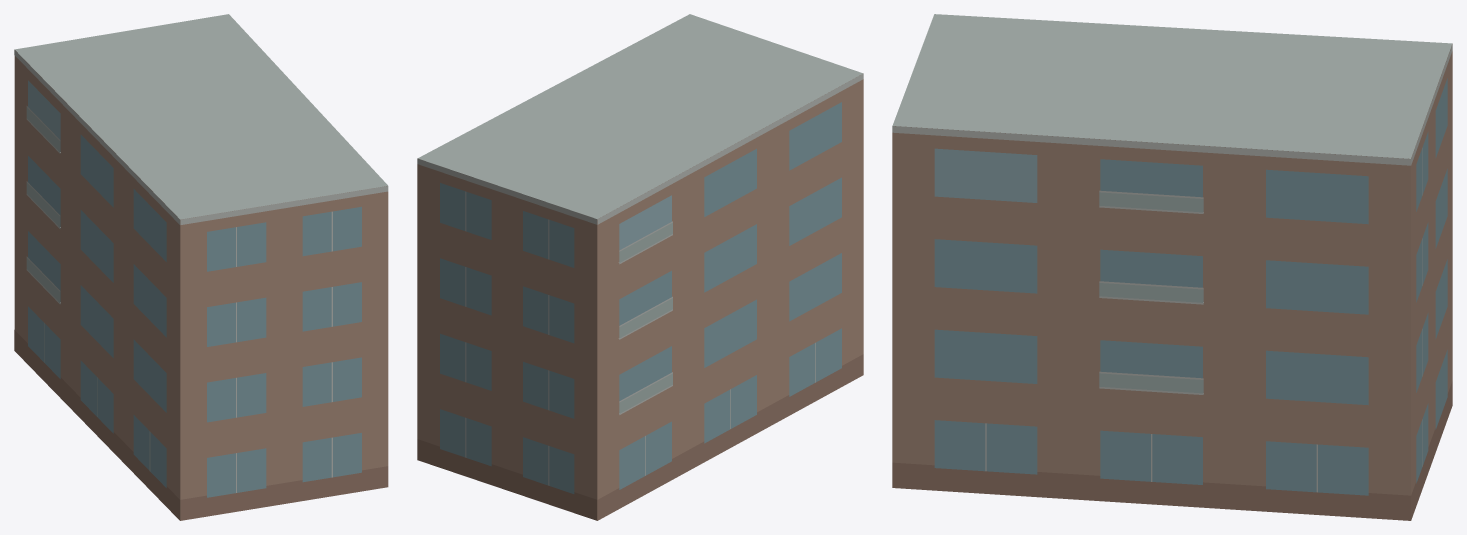
Rendered from survey-upis-32893457.glb.
3 views of the same model, side by side, from view 1: azimuth 30°, elevation 25°; view 2: azimuth 150°, elevation 25°; view 3: azimuth 270°, elevation 25° (orthographic). The views are drawn at different scales.
Visible parts, largest first — view 1: survey-upis-32893457.tmp; view 2: survey-upis-32893457.tmp; view 3: survey-upis-32893457.tmp.
Boxes of the visible parts, left/top/right/bottom form: survey-upis-32893457.tmp: left=14, top=14, right=388, bottom=520; survey-upis-32893457.tmp: left=417, top=14, right=863, bottom=520; survey-upis-32893457.tmp: left=892, top=14, right=1452, bottom=520.
Bounding box in the file's own units: 11.08 × 12.9 × 18.1.
